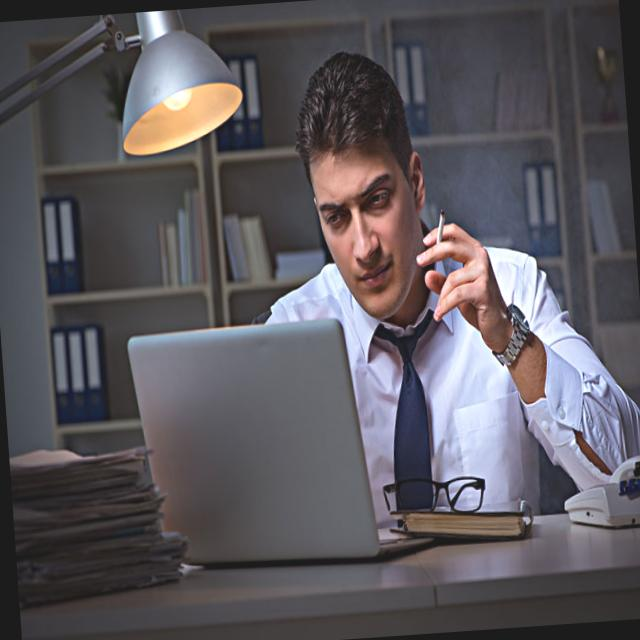cigarette: (430, 206, 450, 253)
